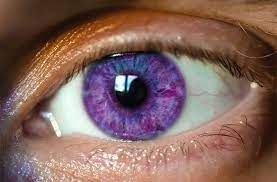e.other: (80, 51, 177, 148)
